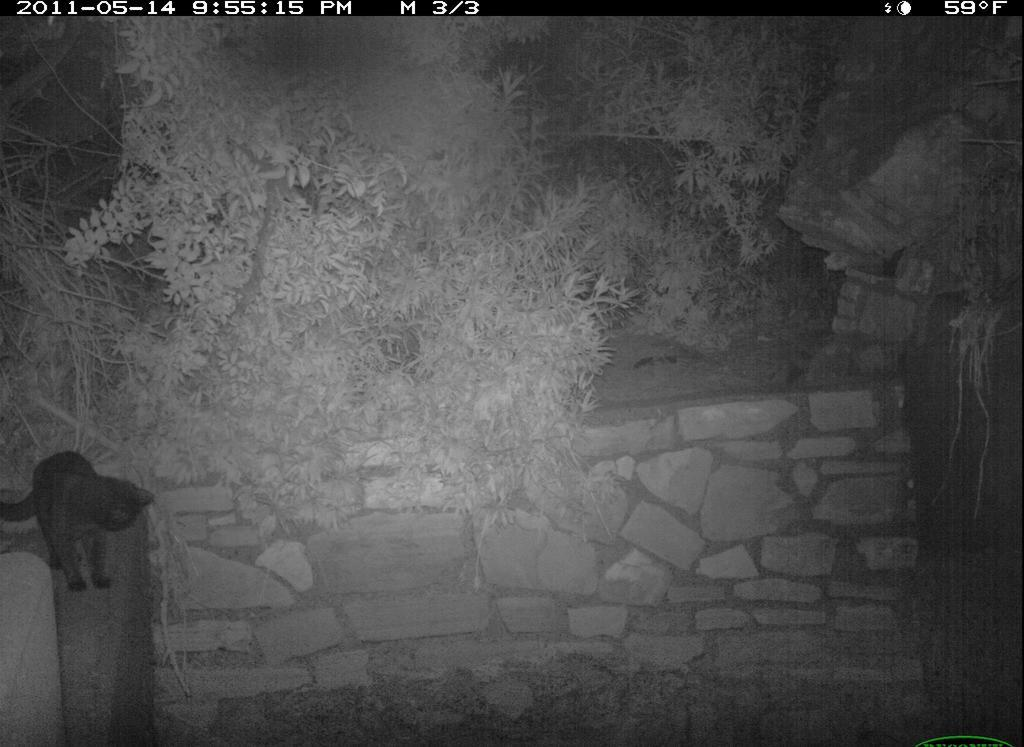cat: (1, 447, 162, 598)
